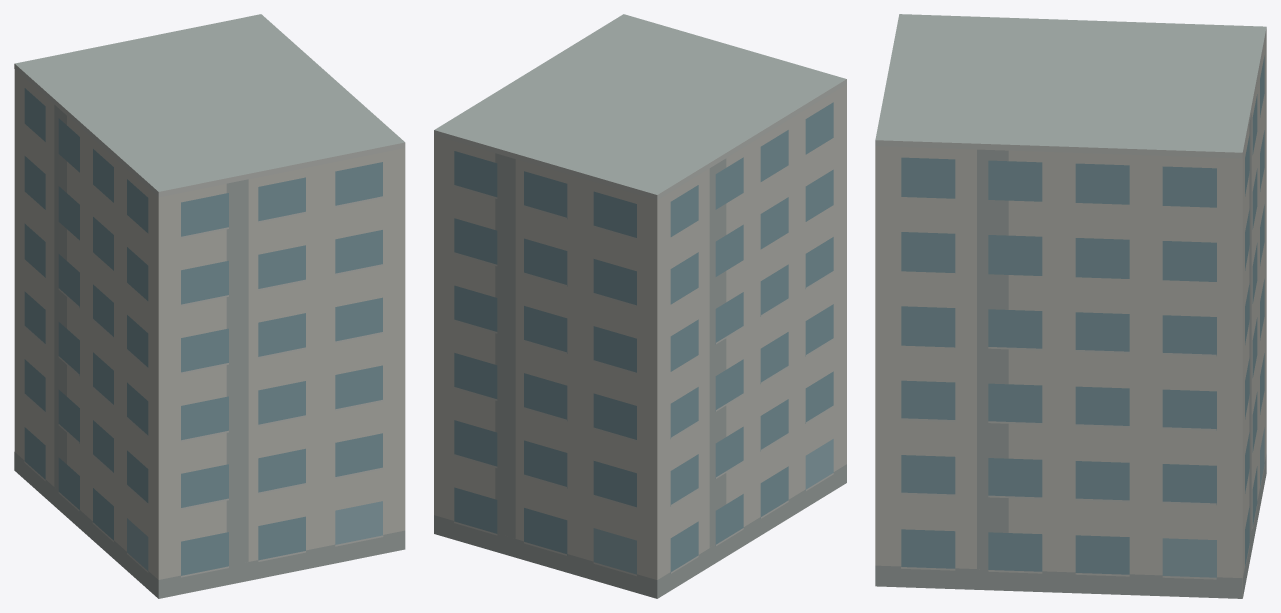
The model's file is survey-upis-32869576.glb.
The picture shows the model from 3 angles, left to right: view 1: azimuth 30°, elevation 25°; view 2: azimuth 150°, elevation 25°; view 3: azimuth 270°, elevation 25°; orthographic projection. The views are drawn at different scales.
Visible parts, largest first — view 1: survey-upis-32869576.tmp; view 2: survey-upis-32869576.tmp; view 3: survey-upis-32869576.tmp.
Part boxes in pixels (x1,y1,x2,y2): survey-upis-32869576.tmp: (14,14,405,598); survey-upis-32869576.tmp: (434,14,846,598); survey-upis-32869576.tmp: (875,14,1266,598).
Bounding box in the file's own units: 12.35 × 18.5 × 14.72.
